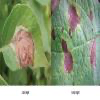Potato leaf early blight: (51, 1, 100, 86)
Potato leaf late blight: (0, 3, 51, 75)
